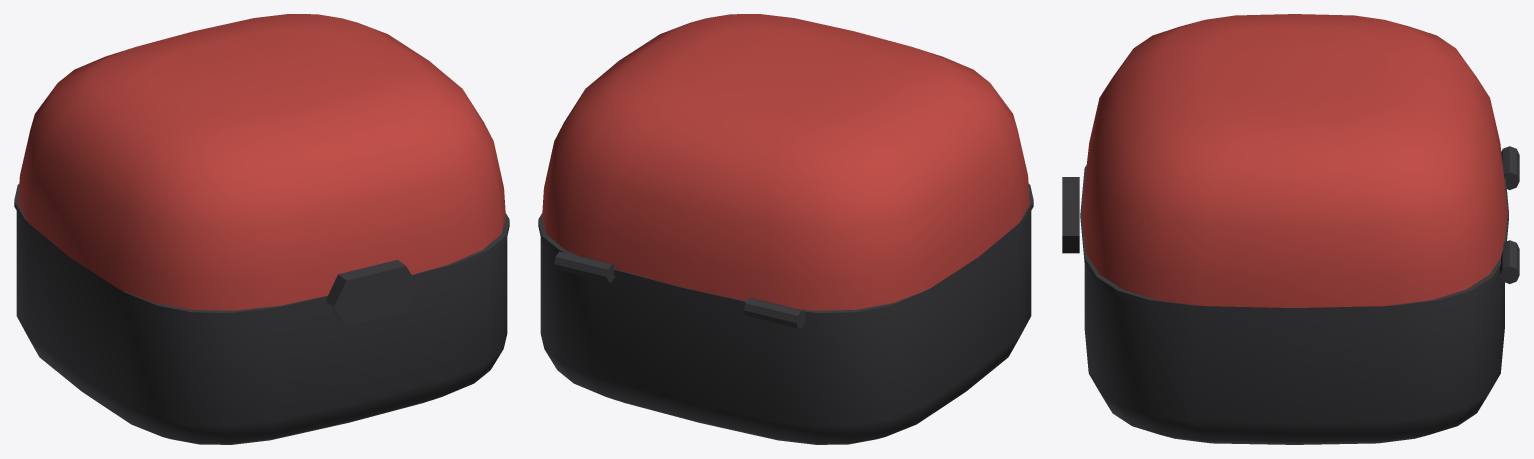
File: top_case.glb
The picture shows the model from 3 angles, left to right: view 1: azimuth 30°, elevation 25°; view 2: azimuth 150°, elevation 25°; view 3: azimuth 270°, elevation 25°; orthographic projection.
Parts seen in each view (by area): view 1: lod0; view 2: lod0; view 3: lod0.
Boxes of the visible parts, x1,y1,x2,y2 form: lod0: (14, 14, 509, 444); lod0: (538, 14, 1033, 444); lod0: (1062, 14, 1519, 444).
Size of what is drawn, in the model's own units: 0.3654 by 0.26 by 0.3701.
